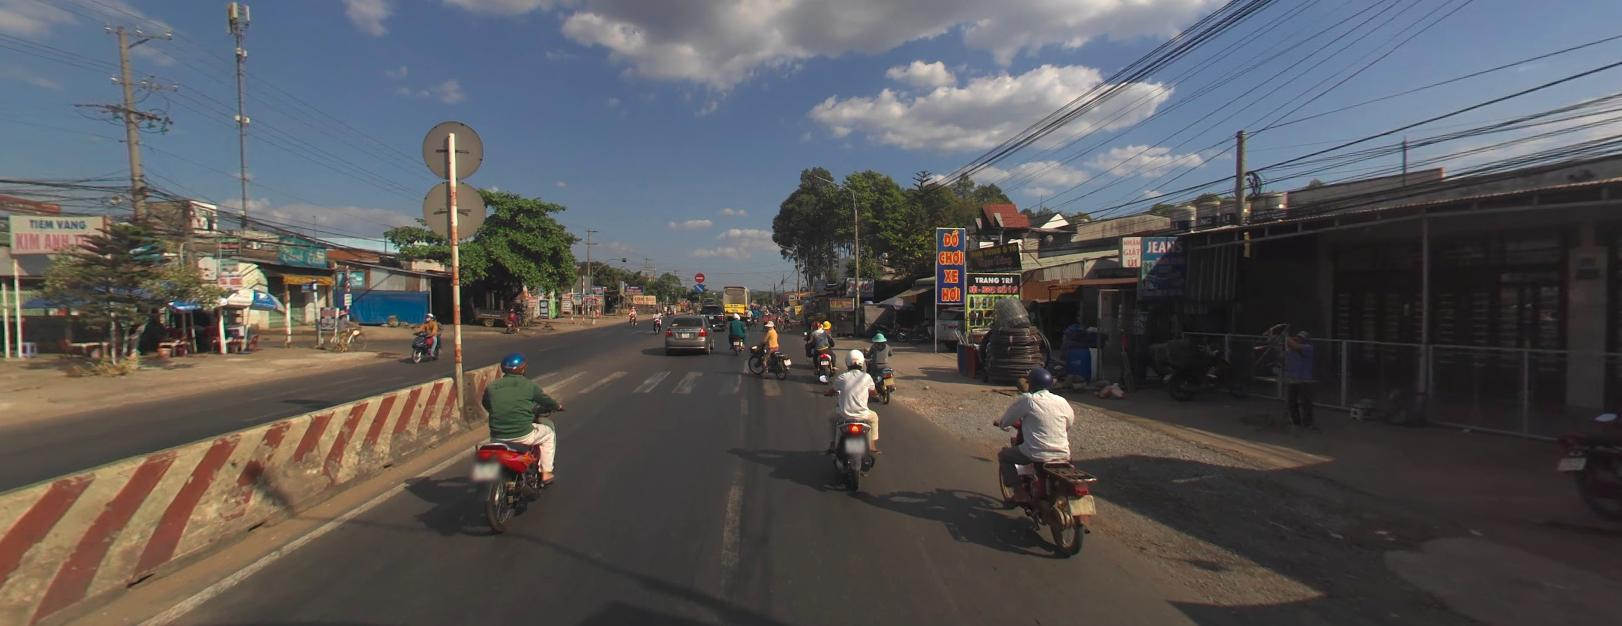Cam nguoc chieu: (694, 271, 704, 281), (694, 271, 704, 280), (694, 271, 703, 280)
Hieu lenh: (693, 281, 703, 291), (694, 281, 703, 291), (694, 282, 703, 291)
